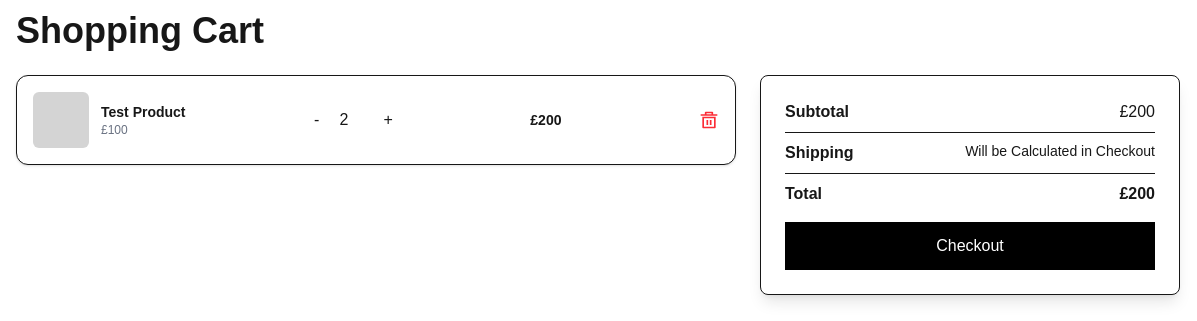
Test: CartPage Component › increments item quantity correctly
Click the button "+": (388, 120) left=383, top=108, right=393, bottom=132
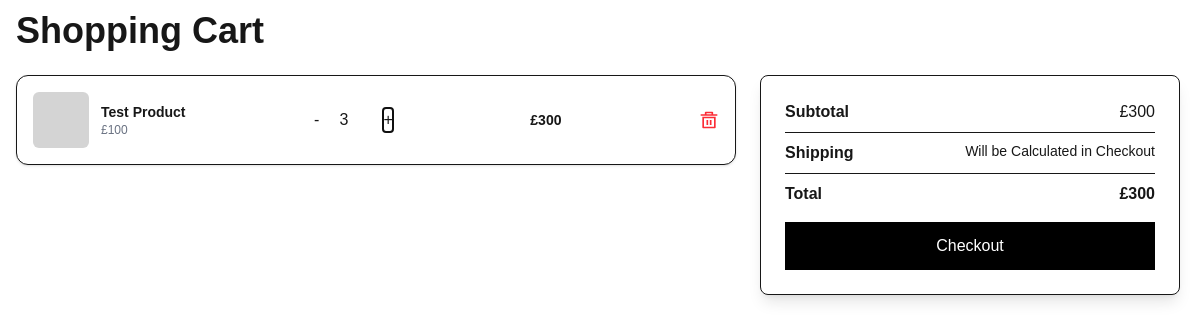
expect the number field showing "2" holds "3": met, box left=327, top=108, right=375, bottom=132
expect the text "£300" in the row of "Test Product" is shown: met, box left=530, top=112, right=562, bottom=128
